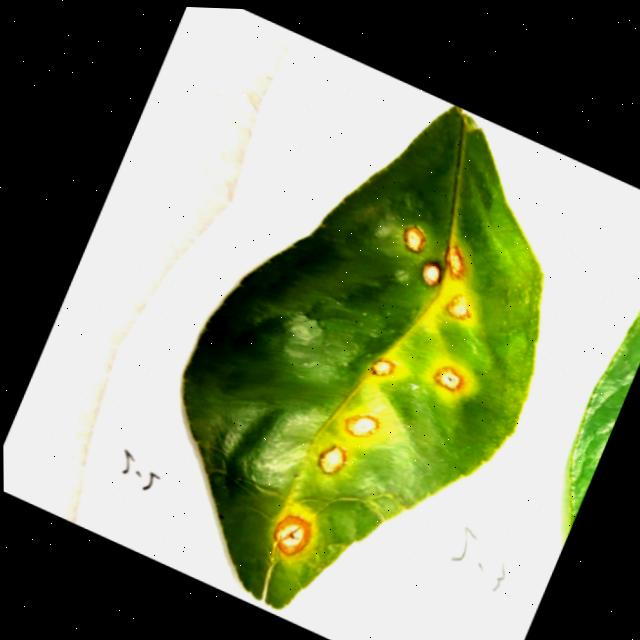antracnose: (182, 106, 541, 607), (272, 514, 309, 554), (318, 445, 345, 473), (344, 414, 378, 436), (433, 366, 461, 390), (444, 246, 463, 278), (402, 226, 424, 252), (446, 295, 469, 318), (421, 262, 439, 285), (369, 359, 392, 375)
